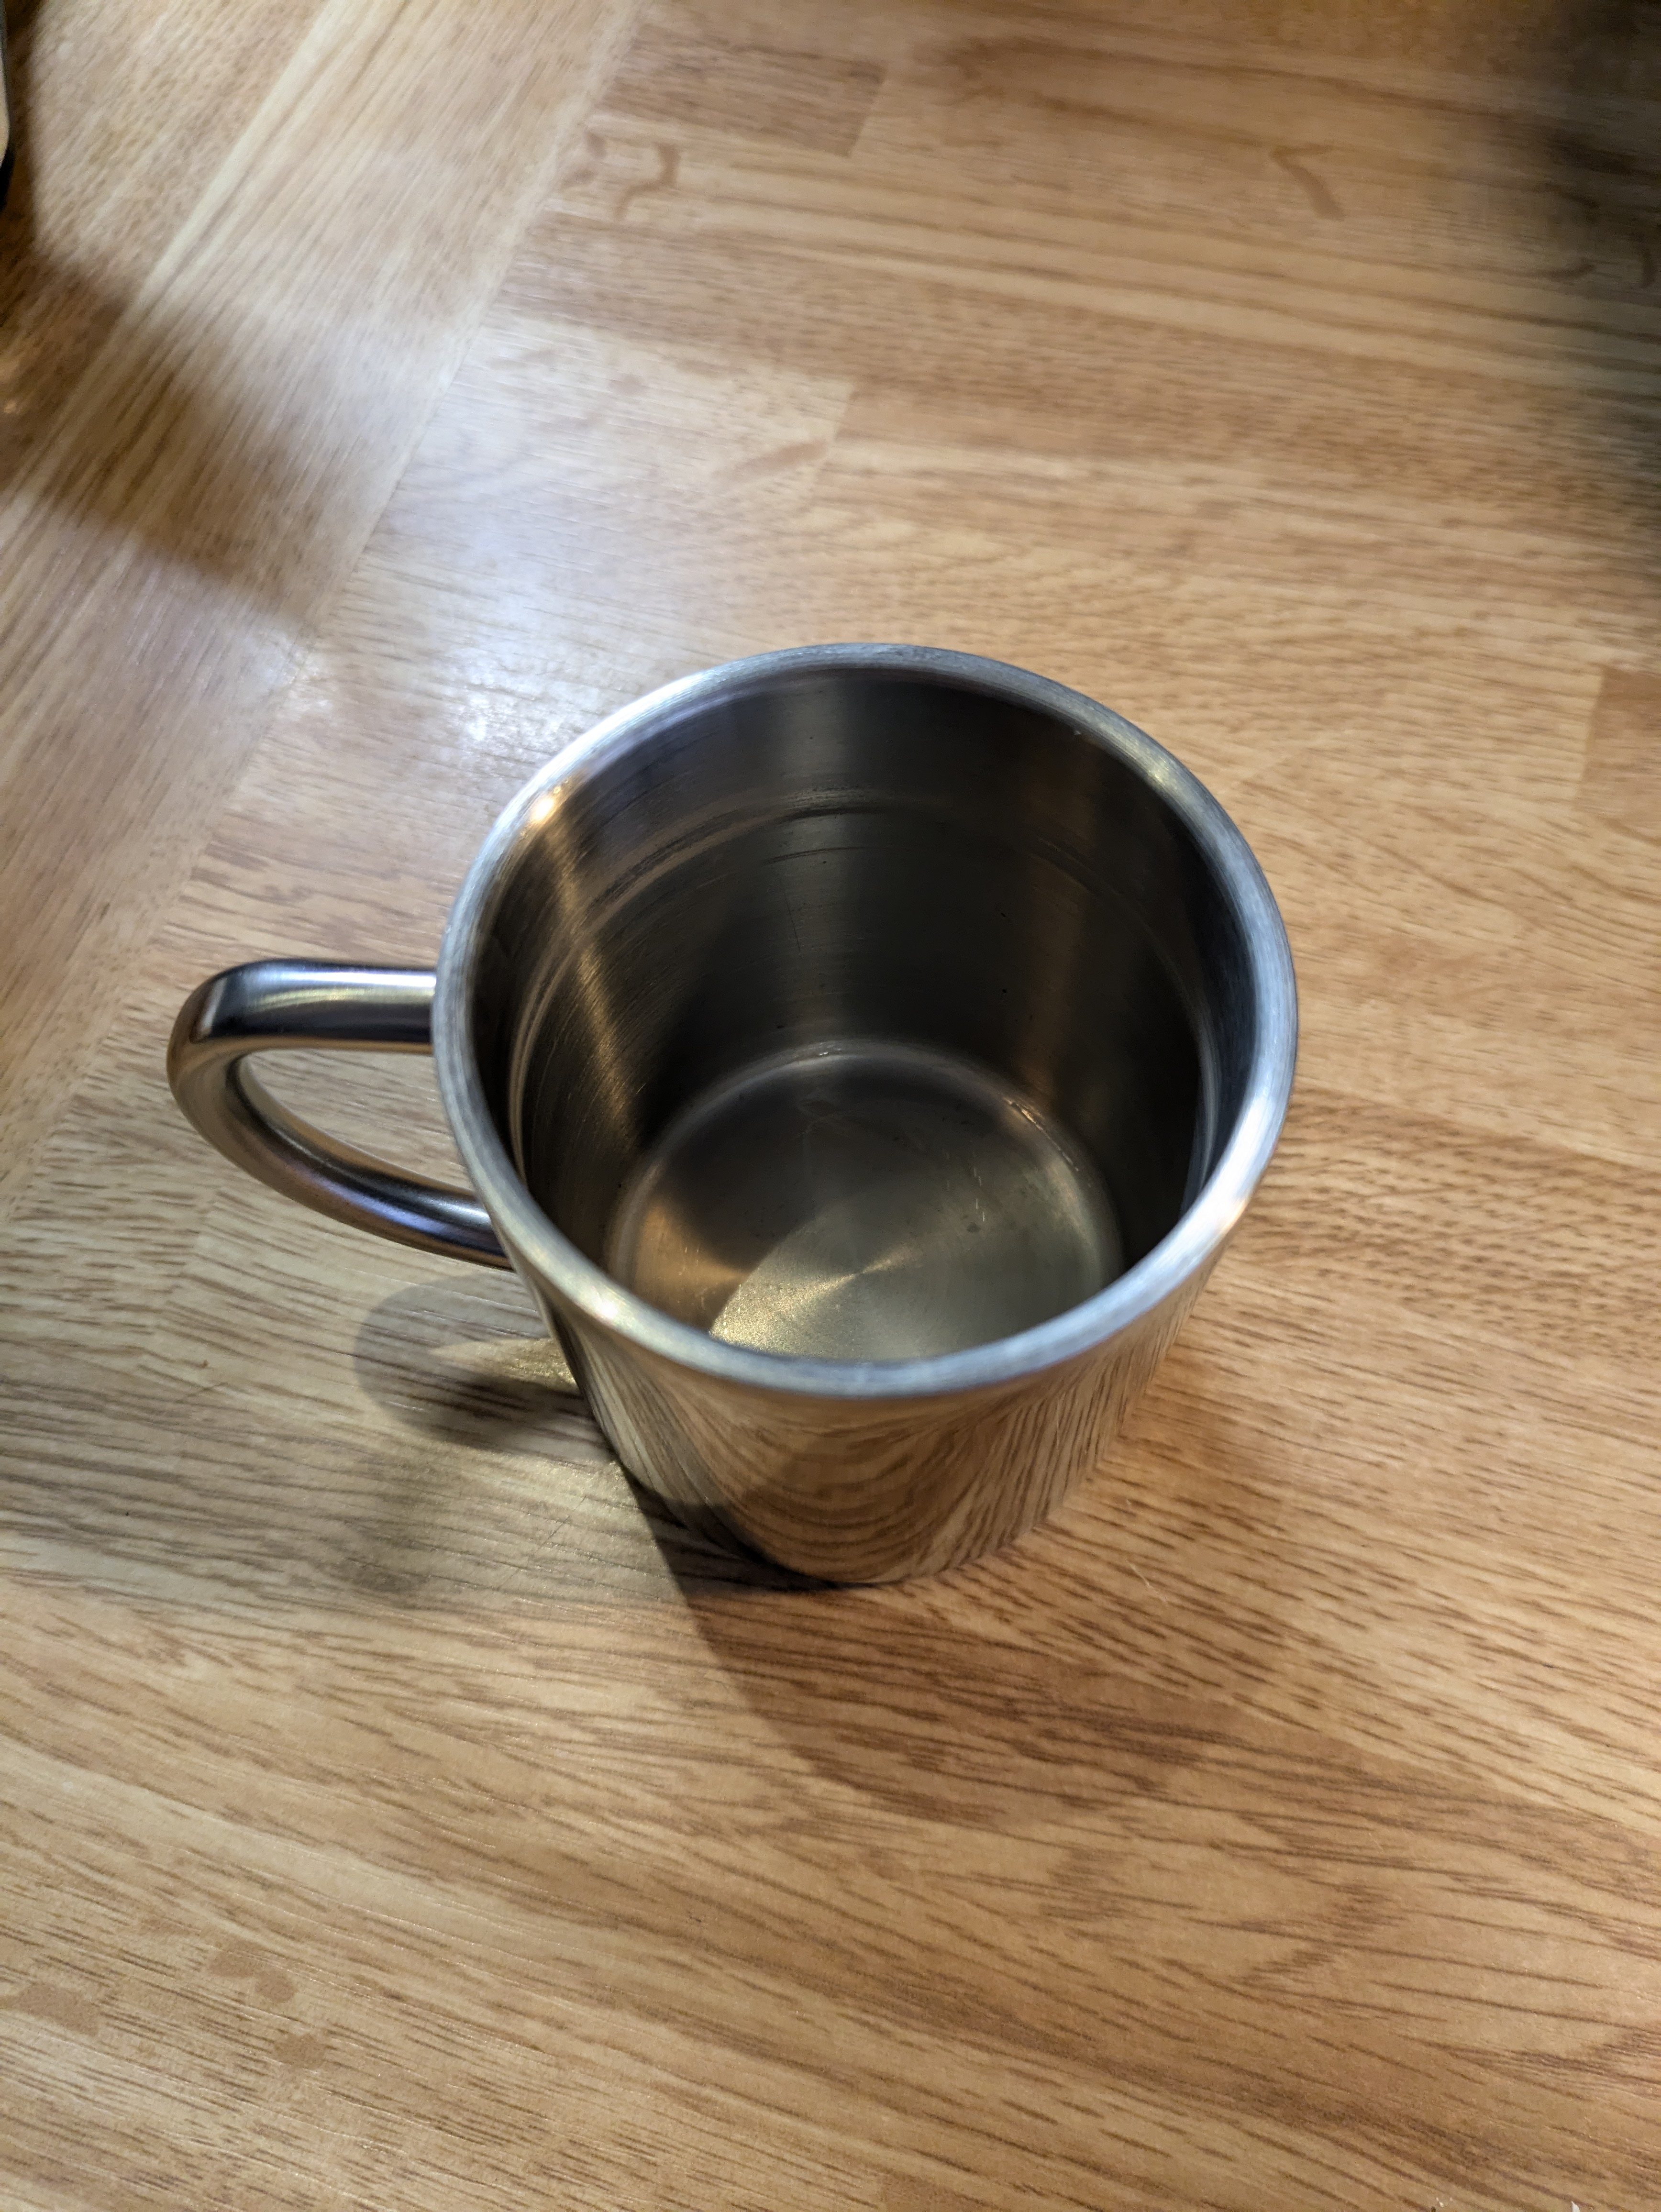mug: (98, 565, 1413, 1753)
